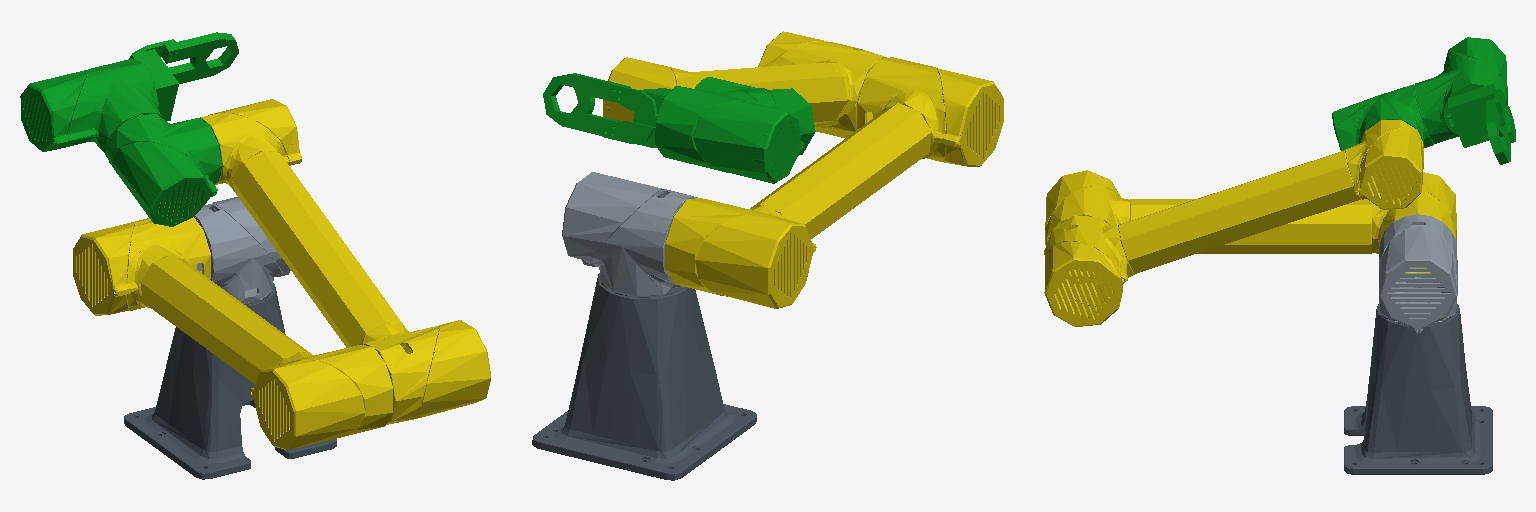
robot.urdf — jxs6000:
<?xml version="1.0" encoding="utf-8"?>
<robot name="jxs6000">
  <!--
    Kinematic preview model derived from the supplied JXS6000 S1-S6 STL
    assembly dated 2026-11. STL coordinates are millimetres with CAD +Y up;
    mesh origins rotate CAD into the URDF Z-up frame and scale to metres.

    S1 is stationary. S2-S6 belong to link_1-link_5. Physical joint_6 controls
    the output flange from -180 to +180 degrees. Its axis is retained from the
    existing tool frame; separate flange/gripper meshes were not supplied.
    Joint limits and dynamics are provisional until production limits and
    calibrated mass properties are available.

    Joint axes are reversed from the original CAD convention so positive model
    angles follow the installed motors' observed physical motion.
  -->

  <material name="base_gray"><color rgba="0.34 0.38 0.42 1" /></material>
  <material name="motor_gray"><color rgba="0.58 0.62 0.66 1" /></material>
  <material name="arm_yellow"><color rgba="0.88 0.80 0.08 1" /></material>
  <material name="wrist_green"><color rgba="0.08 0.62 0.18 1" /></material>

  <link name="base_link">
    <visual name="s1_visual">
      <origin xyz="0 0 0.160000000" rpy="1.570796327 0 0" />
      <geometry><mesh filename="package://jxs6000_description/meshes/s1.stl" scale="0.001 0.001 0.001" /></geometry>
      <material name="base_gray" />
    </visual>
    <collision name="s1_collision">
      <origin xyz="0 0 0.160000000" rpy="1.570796327 0 0" />
      <geometry><mesh filename="package://jxs6000_description/collision/s1.stl" scale="0.001 0.001 0.001" /></geometry>
    </collision>
  </link>

  <link name="link_1">
    <visual name="s2_visual">
      <origin xyz="0 0 0" rpy="1.570796327 0 0" />
      <geometry><mesh filename="package://jxs6000_description/meshes/s2.stl" scale="0.001 0.001 0.001" /></geometry>
      <material name="motor_gray" />
    </visual>
    <collision name="s2_collision">
      <origin xyz="0 0 0" rpy="1.570796327 0 0" />
      <geometry><mesh filename="package://jxs6000_description/collision/s2.stl" scale="0.001 0.001 0.001" /></geometry>
    </collision>
  </link>

  <link name="link_2">
    <visual name="s3_visual">
      <origin xyz="0 0 -0.050000000" rpy="1.570796327 0 0" />
      <geometry><mesh filename="package://jxs6000_description/meshes/s3.stl" scale="0.001 0.001 0.001" /></geometry>
      <material name="arm_yellow" />
    </visual>
    <collision name="s3_collision">
      <origin xyz="0 0 -0.050000000" rpy="1.570796327 0 0" />
      <geometry><mesh filename="package://jxs6000_description/collision/s3.stl" scale="0.001 0.001 0.001" /></geometry>
    </collision>
  </link>

  <link name="link_3">
    <visual name="s4_visual">
      <origin xyz="0 0.360000000 -0.050000000" rpy="1.570796327 0 0" />
      <geometry><mesh filename="package://jxs6000_description/meshes/s4.stl" scale="0.001 0.001 0.001" /></geometry>
      <material name="arm_yellow" />
    </visual>
    <collision name="s4_collision">
      <origin xyz="0 0.360000000 -0.050000000" rpy="1.570796327 0 0" />
      <geometry><mesh filename="package://jxs6000_description/collision/s4.stl" scale="0.001 0.001 0.001" /></geometry>
    </collision>
  </link>

  <link name="link_4">
    <visual name="s5_visual">
      <origin xyz="0 0.028288500 -0.170733100" rpy="1.570796327 0 0" />
      <geometry><mesh filename="package://jxs6000_description/meshes/s5.stl" scale="0.001 0.001 0.001" /></geometry>
      <material name="wrist_green" />
    </visual>
    <collision name="s5_collision">
      <origin xyz="0 0.028288500 -0.170733100" rpy="1.570796327 0 0" />
      <geometry><mesh filename="package://jxs6000_description/collision/s5.stl" scale="0.001 0.001 0.001" /></geometry>
    </collision>
  </link>

  <link name="link_5">
    <visual name="s6_visual">
      <origin xyz="0.103500000 -0.020106000 -0.188347000" rpy="1.570796327 0 0" />
      <geometry><mesh filename="package://jxs6000_description/meshes/s6.stl" scale="0.001 0.001 0.001" /></geometry>
      <material name="wrist_green" />
    </visual>
    <collision name="s6_collision">
      <origin xyz="0.103500000 -0.020106000 -0.188347000" rpy="1.570796327 0 0" />
      <geometry><mesh filename="package://jxs6000_description/collision/s6.stl" scale="0.001 0.001 0.001" /></geometry>
    </collision>
  </link>

  <link name="link_6" />

  <joint name="joint_1" type="revolute">
    <parent link="base_link" /><child link="link_1" />
    <origin xyz="0 0 0.160000000" rpy="0 0 0" />
    <axis xyz="0 0 -1" />
    <limit lower="-3.141592654" upper="3.141592654" effort="120" velocity="1.5" />
    <dynamics damping="0.15" friction="0.05" />
  </joint>

  <joint name="joint_2" type="revolute">
    <parent link="link_1" /><child link="link_2" />
    <origin xyz="0 0 0.050000000" rpy="0 0 0" />
    <axis xyz="-1 0 0" />
    <limit lower="-3.141592654" upper="4.363323130" effort="120" velocity="1.5" />
    <dynamics damping="0.15" friction="0.05" />
  </joint>

  <joint name="joint_3" type="revolute">
    <parent link="link_2" /><child link="link_3" />
    <origin xyz="0 -0.360000000 0" rpy="0 0 0" />
    <axis xyz="-1 0 0" />
    <limit lower="-5.759586532" upper="3.141592654" effort="100" velocity="1.5" />
    <dynamics damping="0.15" friction="0.05" />
  </joint>

  <joint name="joint_4" type="revolute">
    <parent link="link_3" /><child link="link_4" />
    <origin xyz="0 0.331711500 0.120733100" rpy="0 0 0" />
    <axis xyz="-1 0 0" />
    <limit lower="-3.141592654" upper="3.141592654" effort="70" velocity="2.0" />
    <dynamics damping="0.12" friction="0.04" />
  </joint>

  <joint name="joint_5" type="revolute">
    <parent link="link_4" /><child link="link_5" />
    <origin xyz="-0.103500000 0.048394500 0.017613900" rpy="0 0 0" />
    <axis xyz="0 0.939692621 0.342020143" />
    <limit lower="-1.658062789" upper="6.283185307" effort="45" velocity="2.0" />
    <dynamics damping="0.10" friction="0.03" />
  </joint>

  <joint name="joint_6" type="revolute">
    <parent link="link_5" /><child link="link_6" />
    <origin xyz="0.161000000 0.066624000 0.024253000" rpy="0 0 0" />
    <axis xyz="-0.939692621 0 -0.342020143" />
    <limit lower="-3.141592654" upper="3.141592654" effort="30" velocity="2.5" />
    <dynamics damping="0.08" friction="0.02" />
  </joint>

  <link name="tool0" />
  <joint name="tool0_fixed" type="fixed">
    <parent link="link_6" /><child link="tool0" />
    <origin xyz="0 0 0" rpy="0 0 0" />
  </joint>
</robot>

--- Facts derived from the render (not from the file) ---
3 views of the same robot in one strip: view 1: azimuth 30°, elevation 25°; view 2: azimuth 150°, elevation 25°; view 3: azimuth 270°, elevation 25° (orthographic).
Model jxs6000 with 8 links and 7 joints (6 revolute, 1 fixed), rooted at base_link, posed every joint at zero.
Links seen in each view (by area): view 1: link_2, link_3, link_5, base_link, link_4, link_1; view 2: link_2, base_link, link_5, link_1, link_3, link_4; view 3: link_3, base_link, link_2, link_5, link_1, link_4.
Link boxes in pixels (x1,y1,x2,y2): link_2: (73,217,392,449); link_3: (200,99,490,424); link_5: (20,32,238,157); base_link: (124,283,336,479); link_4: (106,113,221,226); link_1: (194,197,290,303); link_2: (665,57,1003,308); base_link: (532,273,756,480); link_5: (543,73,803,183); link_1: (562,172,697,295); link_3: (603,31,886,138); link_4: (695,77,815,155); link_3: (1044,120,1423,326); base_link: (1344,304,1492,474); link_2: (1045,170,1456,280); link_5: (1415,37,1515,164); link_1: (1379,214,1457,333); link_4: (1332,84,1433,150).
Bounding box of the posed robot: 0.266 × 0.5073 × 0.3997 m (x, y, z).
Meshes: 6 distinct files referenced, 6 mesh visuals loaded (6 binary STL).
